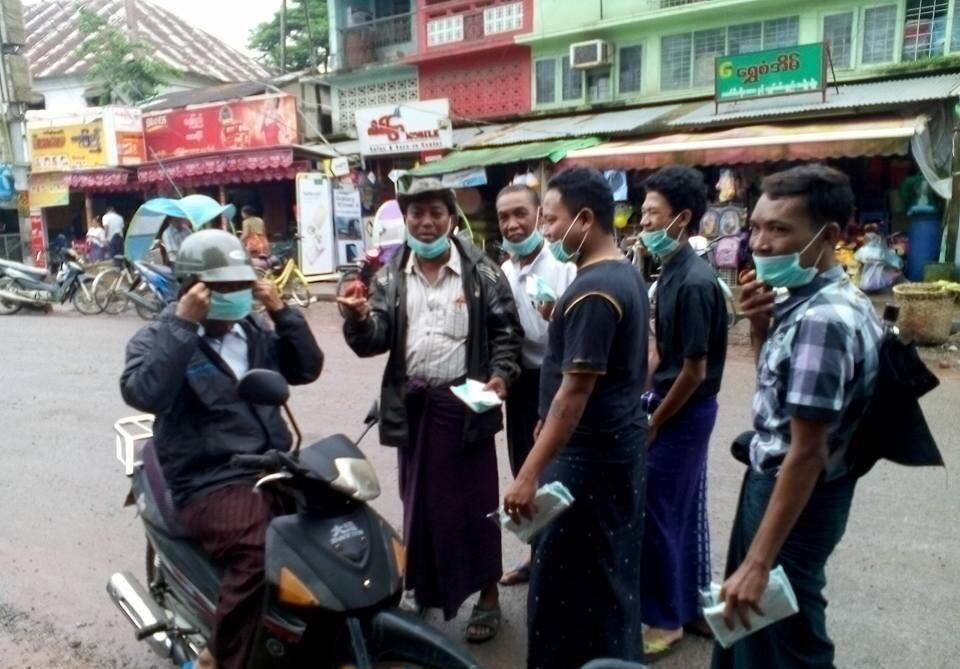OK: (197, 264, 255, 325)
WRONG: (748, 209, 825, 283), (637, 198, 704, 265), (398, 203, 455, 260), (496, 202, 547, 257), (545, 203, 592, 260)
